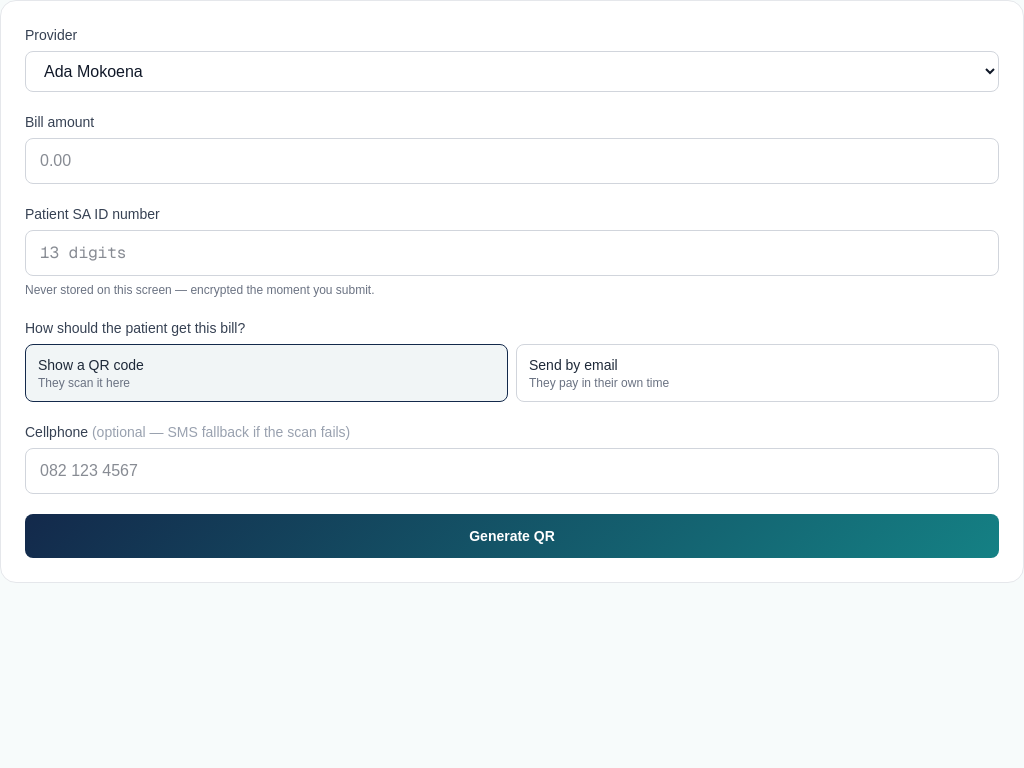
Scenario: the client-side posture is the same on both surfaces › the till blocks the SAME id before any request — it used not to
The image size is (1024, 768).
Type "1000" into the number field labelled "Bill amount" at (512, 161), box top-left (25, 138), bottom-right (999, 184)
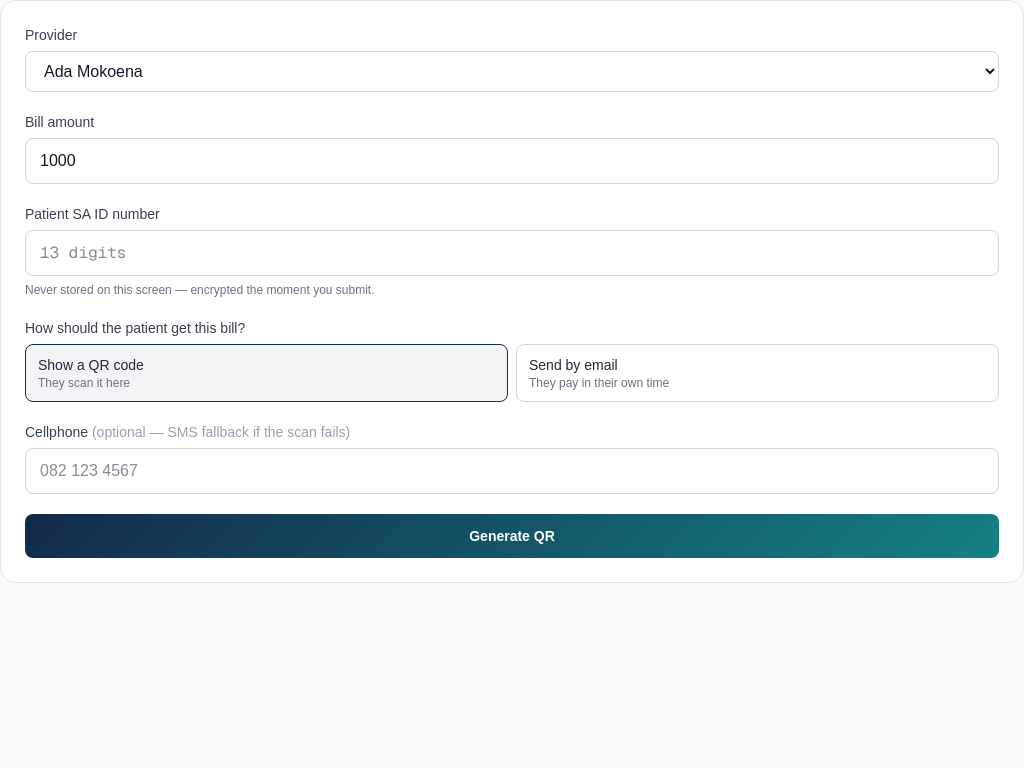
Type "9001015800086" into the field with test id "pos-said-input" at (512, 253), box top-left (25, 230), bottom-right (999, 276)
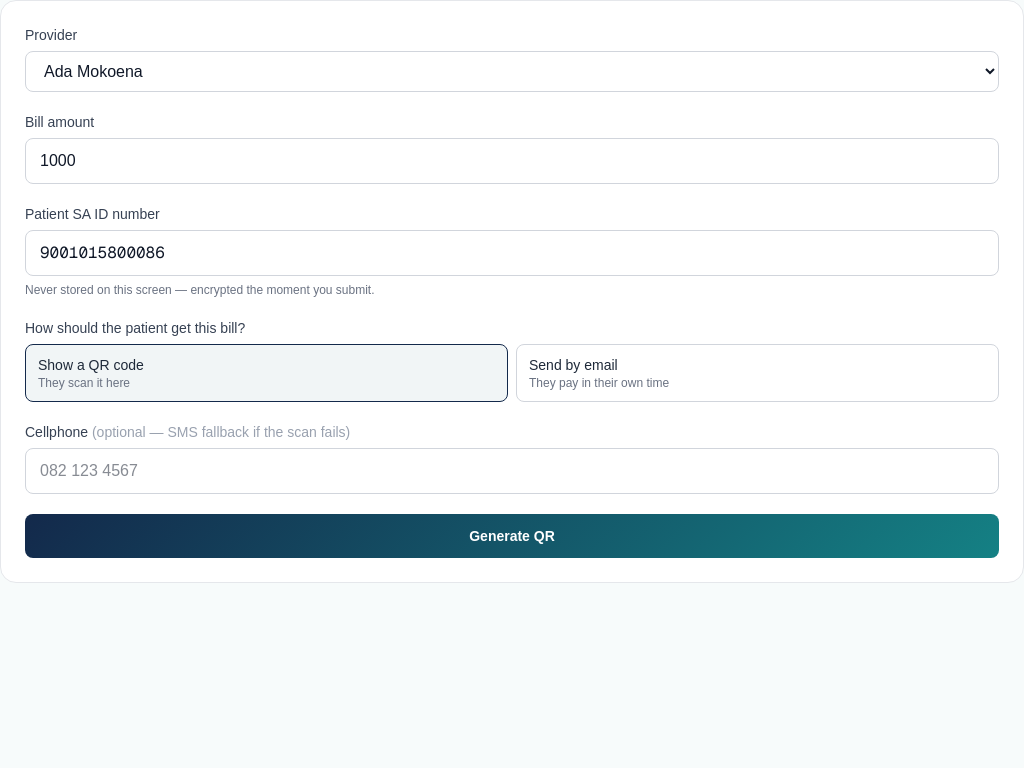
Submit the form with test id "pos-entry-form"
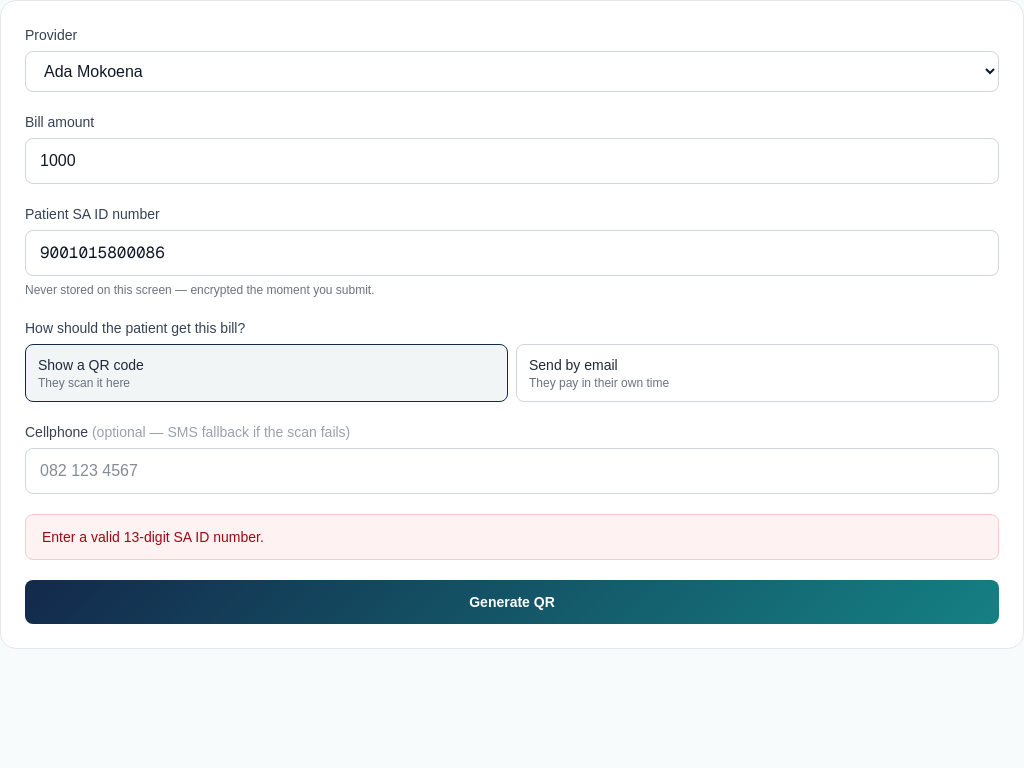
Result: the message shows "valid 13-digit SA ID" at top-left (42, 529), bottom-right (264, 545)
